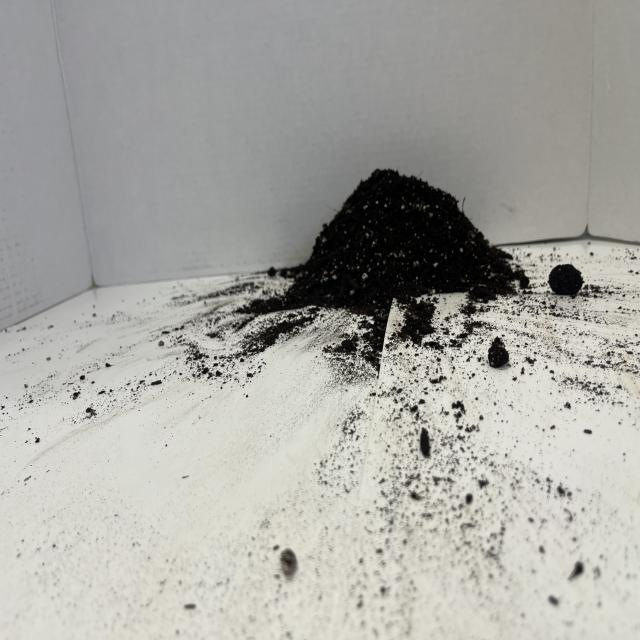soil: (266, 164, 526, 318)
